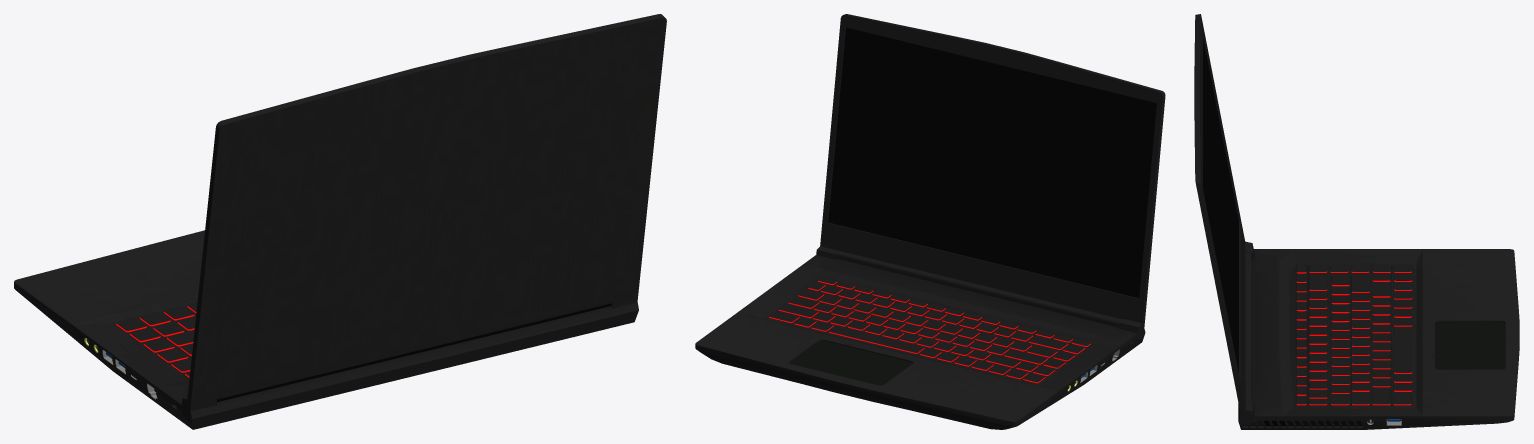
File: gaming-laptop.glb
The picture shows the model from 3 angles, left to right: view 1: azimuth 30°, elevation 25°; view 2: azimuth 150°, elevation 25°; view 3: azimuth 270°, elevation 25°; orthographic projection. The views are drawn at different scales.
Parts seen in each view (by area): view 1: Object_11, Object_0, Object_13; view 2: Object_1, Object_0, Object_11, Object_13; view 3: Object_11, Object_0, Object_1, Object_13.
Boxes of the visible parts, x1,y1,x2,y2 form: Object_11: (14,17,666,421); Object_0: (14,14,665,429); Object_13: (116,306,196,377); Object_1: (828,27,1156,298); Object_0: (695,14,1165,429); Object_11: (695,254,1137,422); Object_13: (769,280,1090,383); Object_11: (1240,249,1519,416); Object_0: (1194,14,1519,429); Object_1: (1203,38,1238,372); Object_13: (1296,271,1412,405).
Size of the model in its own units: 0.38 by 0.2712 by 0.3123.
5 materials, 5 textured.
